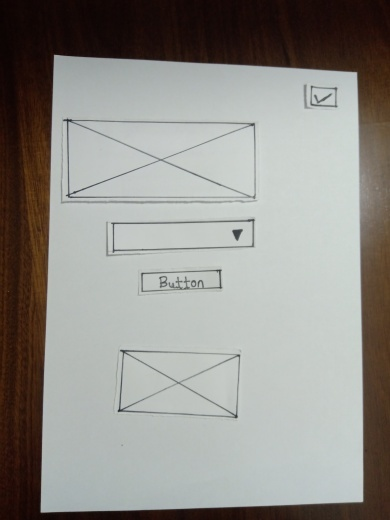button: (136, 270, 224, 292)
checkbox: (311, 83, 342, 108)
dropdown: (110, 223, 254, 250)
img: (66, 117, 257, 203), (122, 353, 239, 419)
